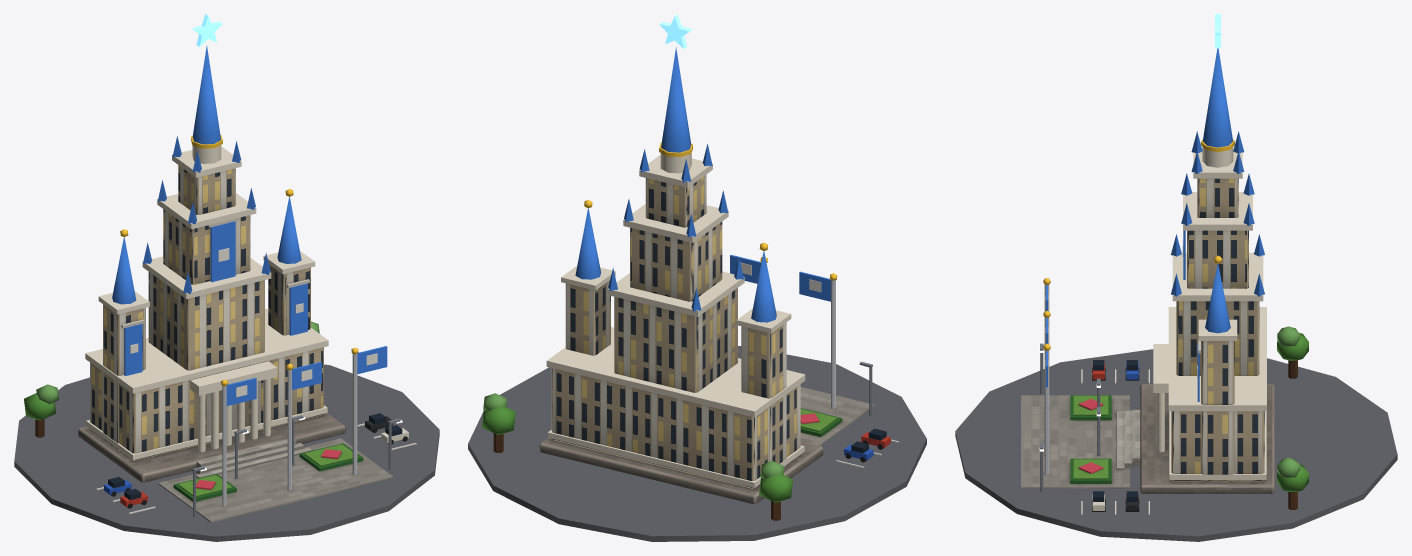
Rendered from residence_dl6_blue.glb.
The picture shows the model from 3 angles, left to right: view 1: azimuth 30°, elevation 25°; view 2: azimuth 150°, elevation 25°; view 3: azimuth 270°, elevation 25°; orthographic projection. The views are drawn at different scales.
Parts seen in each view (by area): view 1: residence_dl6_blue; view 2: residence_dl6_blue; view 3: residence_dl6_blue.
Part boxes in pixels (bbox=[...]): residence_dl6_blue: bbox=[14, 14, 439, 541]; residence_dl6_blue: bbox=[468, 14, 926, 541]; residence_dl6_blue: bbox=[955, 14, 1397, 541].
Size of the model in its own units: 1.71 by 1.85 by 1.71.
Materials: 3 (1 with a texture image).
